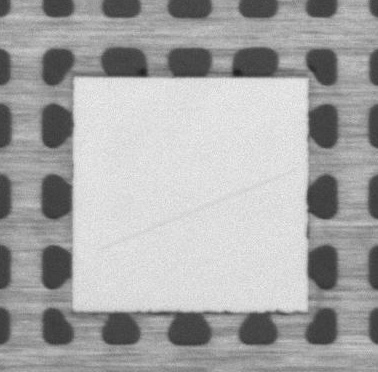DIE_CRACK: (102, 166, 302, 245)
